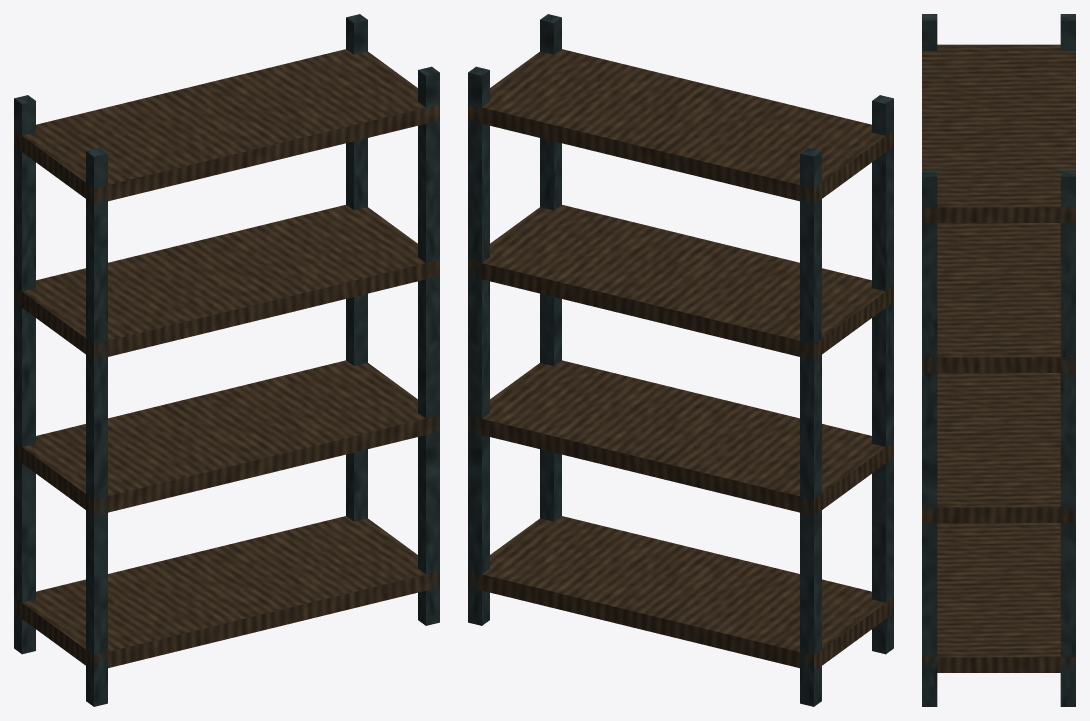
File: Shelf_Metal.glb
3 renders of one model, left to right at view 1: azimuth 30°, elevation 25°; view 2: azimuth 150°, elevation 25°; view 3: azimuth 270°, elevation 25°, orthographic. The views are drawn at different scales.
Visible parts, largest first — view 1: Shelf_Metal; view 2: Shelf_Metal; view 3: Shelf_Metal.
Part boxes in pixels (x1,y1,x2,y2): Shelf_Metal: (14, 14, 439, 706); Shelf_Metal: (468, 14, 893, 706); Shelf_Metal: (922, 14, 1075, 706).
Size of the model in its own units: 1 by 1.52 by 0.4.
2 materials, 2 textured.
